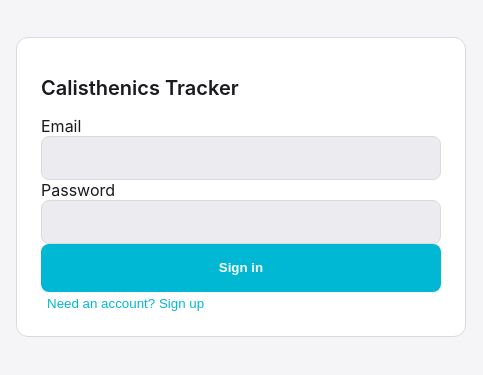
Test: AuthScreen BEM classNames › error element renders with className containing 'auth__error' when error is present
The image size is (483, 375).
Type "test@example.com" into the field labelled "Email" at (241, 158), box [41,136,441,180]
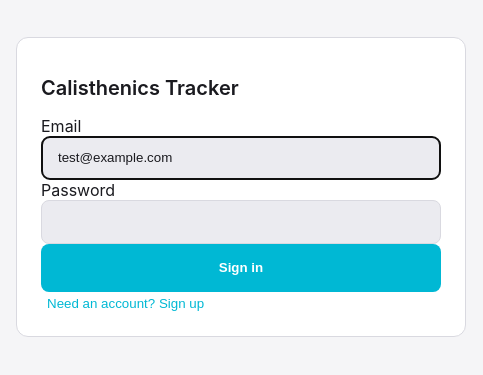
Type "password123" into the password field labelled "Password" at (241, 222), box [41,200,441,244]
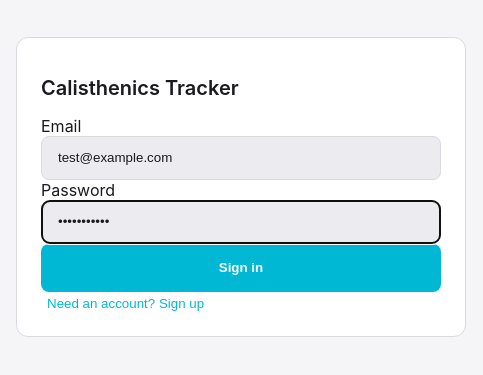
Click the button "Sign in" at (241, 268), box [41,244,441,292]
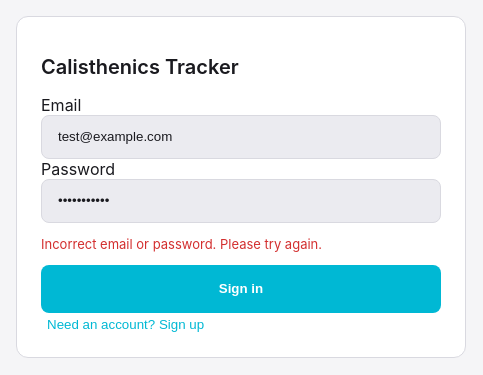
Expected: the message "Incorrect email or password. Please try again." is shown, [41,236,322,252]
